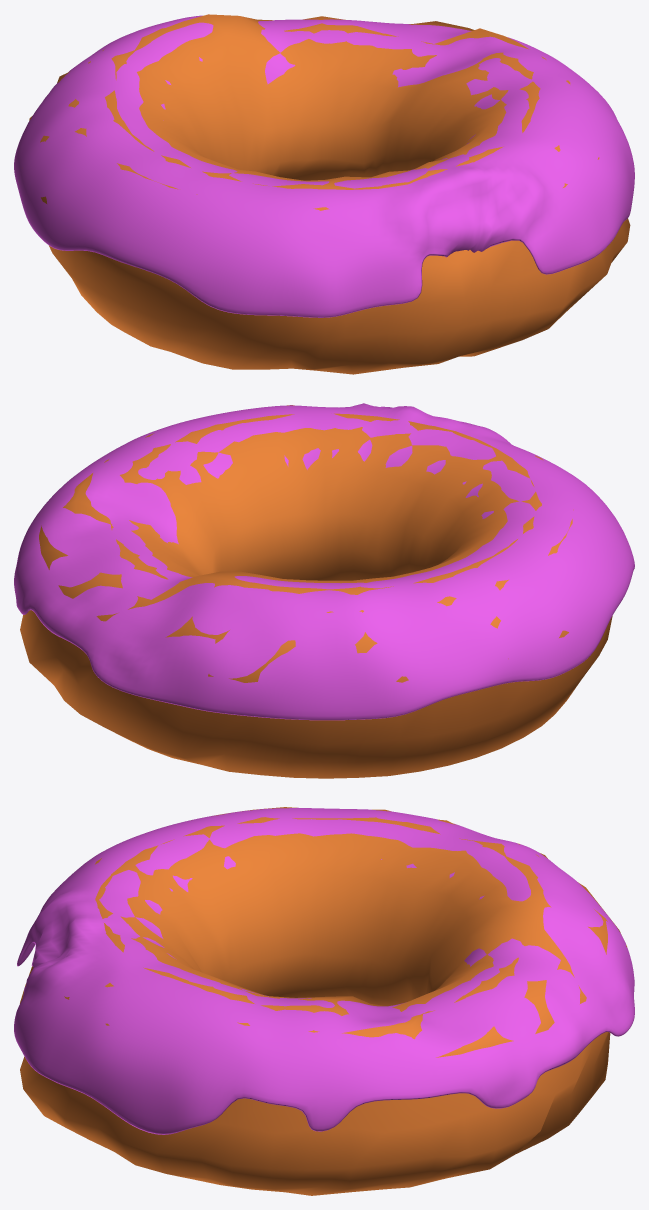
The model's file is donut.glb.
The picture shows the model from 3 angles, top to bottom: view 1: azimuth 30°, elevation 25°; view 2: azimuth 150°, elevation 25°; view 3: azimuth 270°, elevation 25°; orthographic projection. The views are drawn at different scales.
Parts seen in each view (by area): view 1: Icing, Donut; view 2: Icing, Donut; view 3: Icing, Donut.
Part boxes in pixels (bbox=[...]): Icing: bbox=[14, 15, 634, 317]; Donut: bbox=[29, 14, 630, 374]; Icing: bbox=[14, 403, 634, 720]; Donut: bbox=[20, 405, 612, 778]; Icing: bbox=[14, 807, 634, 1134]; Donut: bbox=[20, 807, 626, 1195].
Size of the model in its own units: 0.1102 by 0.0364 by 0.1073.
